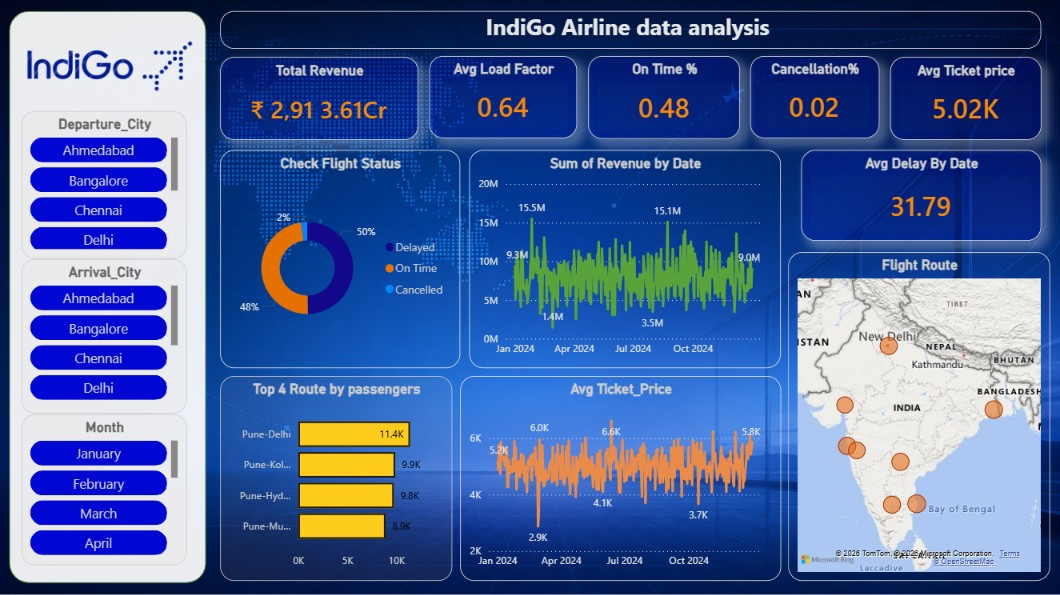

The dashboard page shown, as its layout file describes it:
{"tool":"powerbi","page":{"name":"Page 1","canvas":[1280,720],"ordinal":0},"visuals":[{"type":"shape","box":[12.5,13.8,237.5,690],"z":0},{"type":"image","box":[26.1,24.7,211.3,111.1],"z":1000},{"type":"barChart","title":"Top 4 Route by passengers","fields":{"Category":["Indigo_Data.Route"],"Y":["Sum(Indigo_Data.Passengers)"]},"box":[266.2,454.2,279.9,247],"z":2000},{"type":"cardVisual","title":"Total Revenue","fields":{"Data":["Indigo_Data.Reve in cr"]},"box":[266.6,68.8,238.9,100.1],"z":3000},{"type":"cardVisual","title":"Avg Load Factor","fields":{"Data":["Avg(Indigo_Data.Load_Factor)"]},"box":[518.8,67.6,178.6,98.9],"z":4000},{"type":"cardVisual","title":"On Time %","fields":{"Data":["Indigo_Data.On Time %"]},"box":[710.6,67.6,183.4,100.1],"z":5000},{"type":"listSlicer","fields":{"Values":["Indigo_Data.Date.Variation.Date Hierarchy.Month"]},"box":[26.1,499.5,200.3,182.5],"z":6000},{"type":"donutChart","title":"Check  Flight Status","fields":{"Category":["Indigo_Data.Flight_Status"],"Y":["CountNonNull(Indigo_Data.Flight_ID)"]},"box":[266.2,181.1,289.5,263.5],"z":7000},{"type":"lineChart","title":"Avg Ticket_Price ","fields":{"Y":["Avg(Indigo_Data.Ticket_Price)"],"Category":["Indigo_Data.Date"]},"box":[555.7,454.2,387,247],"z":8000},{"type":"cardVisual","title":"Cancellation%","fields":{"Data":["Indigo_Data.Cancellation %"]},"box":[906,67.6,155.6,98.9],"z":9000},{"type":"listSlicer","fields":{"Values":["Indigo_Data.Departure_City"]},"box":[26.1,134.5,200.3,178.4],"z":10000},{"type":"listSlicer","fields":{"Values":["Indigo_Data.Arrival_City"]},"box":[26.1,312.9,200.3,186.6],"z":11000},{"type":"lineChart","fields":{"Y":["Sum(Indigo_Data.Revenue)"],"Category":["Indigo_Data.Date"]},"box":[566.7,181.1,376,263.5],"z":12000},{"type":"textbox","box":[266.2,13.7,990.7,45.3],"z":13000},{"type":"map","title":"Flight Route","fields":{"Category":["Indigo_Data.Departure_City"],"Size":["Sum(Indigo_Data.Revenue)"]},"box":[951.9,304,316.1,396.9],"z":14000},{"type":"cardVisual","title":"Avg Ticket price ","fields":{"Data":["Avg(Indigo_Data.Ticket_Price)"]},"box":[1074.9,68.8,182.2,100.1],"z":14001},{"type":"cardVisual","title":"Avg Delay By Date ","fields":{"Data":["Avg(Indigo_Data.Delay_Minutes)"]},"box":[967.6,181,289.5,109.8],"z":14002}]}

Visuals, with their boxes in screenshot pixels (x1, y1, x2, y2), scaled from the page's 1280x720 canvas onto the 1060x595 screenshot:
shape: bbox=(10, 11, 207, 582)
image: bbox=(22, 20, 197, 112)
"Top 4 Route by passengers" barChart: bbox=(220, 375, 452, 579)
"Total Revenue" cardVisual: bbox=(221, 57, 419, 140)
"Avg Load Factor" cardVisual: bbox=(430, 56, 578, 138)
"On Time %" cardVisual: bbox=(588, 56, 740, 139)
listSlicer - Indigo_Data.Date.Variation.Date Hierarchy.Month: bbox=(22, 413, 187, 564)
"Check  Flight Status" donutChart: bbox=(220, 150, 460, 367)
"Avg Ticket_Price " lineChart: bbox=(460, 375, 781, 579)
"Cancellation%" cardVisual: bbox=(750, 56, 879, 138)
listSlicer - Indigo_Data.Departure_City: bbox=(22, 111, 187, 259)
listSlicer - Indigo_Data.Arrival_City: bbox=(22, 259, 187, 413)
lineChart - Sum(Indigo_Data.Revenue) x Indigo_Data.Date: bbox=(469, 150, 781, 367)
textbox: bbox=(220, 11, 1041, 49)
"Flight Route" map: bbox=(788, 251, 1050, 579)
"Avg Ticket price " cardVisual: bbox=(890, 57, 1041, 140)
"Avg Delay By Date " cardVisual: bbox=(801, 150, 1041, 240)
